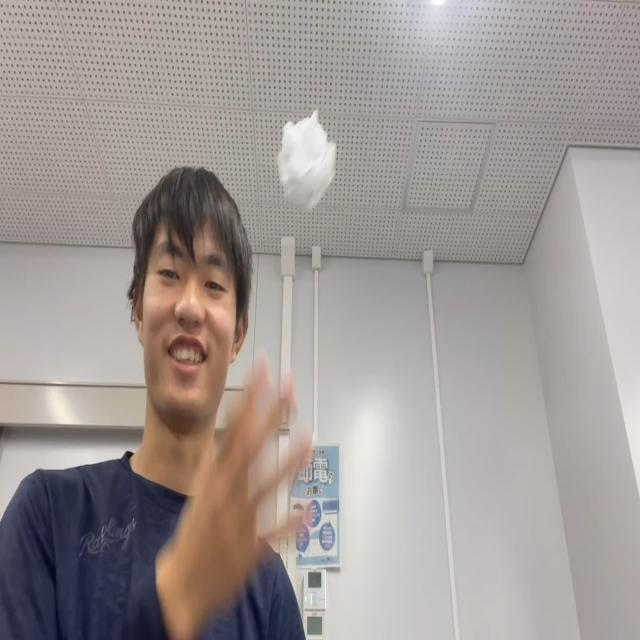paper: (277, 108, 337, 210)
